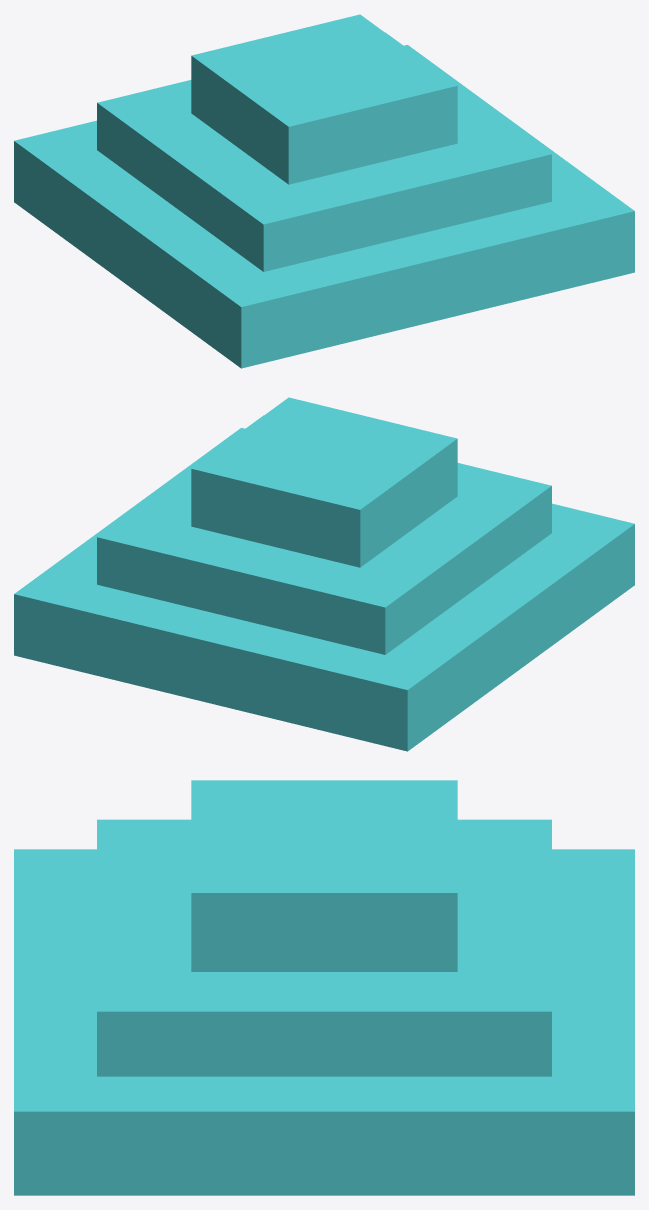
The model's file is platform.fbx.
3 renders of one model, top to bottom at view 1: azimuth 30°, elevation 25°; view 2: azimuth 150°, elevation 25°; view 3: azimuth 270°, elevation 25°, orthographic. The views are drawn at different scales.
Visible parts, largest first — view 1: Cube; view 2: Cube; view 3: Cube.
Part boxes in pixels (left/top/right/bottom): Cube: left=14, top=14, right=634, bottom=368; Cube: left=14, top=397, right=634, bottom=751; Cube: left=14, top=780, right=634, bottom=1195.
Size of the model in its own units: 200 by 80.93 by 200.
